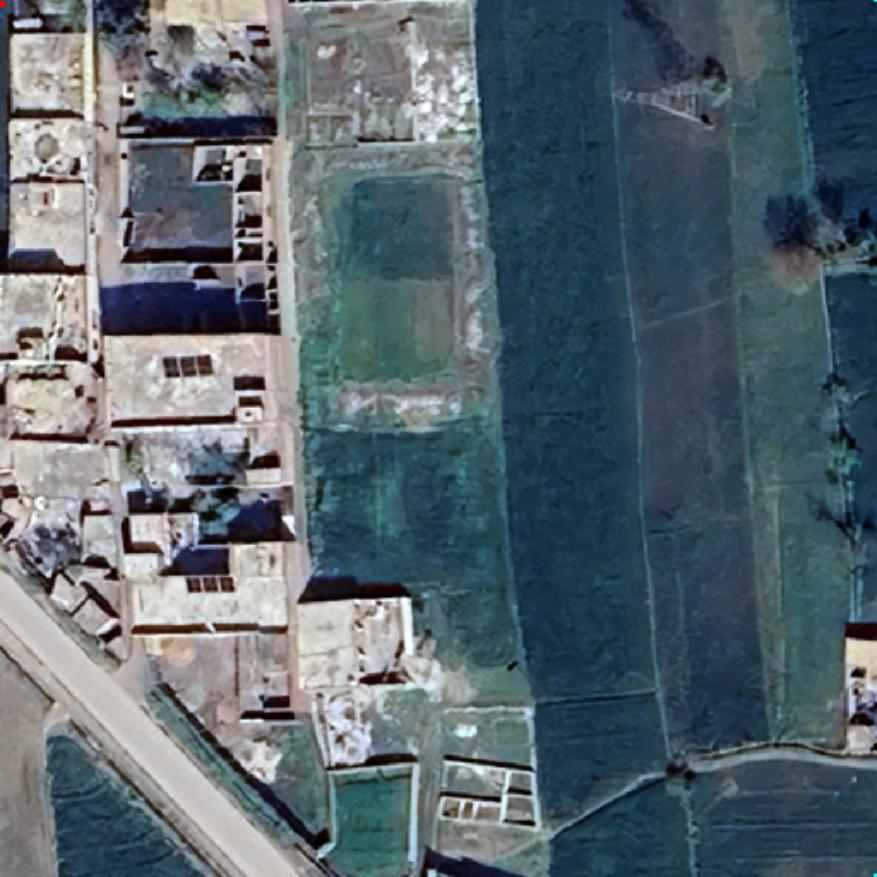Solarpanel: (158, 350, 218, 382), (182, 572, 238, 596)
